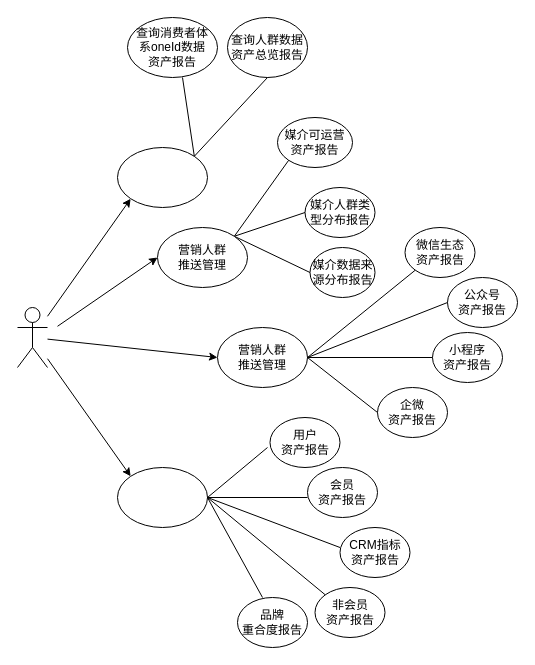
Some shapes in this 535 by 665 pixel diagram are drawn without their labels. The shapes that lost their labels are listed below. From the top down, each one's box as (x1, y1, x2, y2) in pixels, then its label:
(116, 146, 208, 208): 数据资产 总览看板
(16, 306, 48, 368): 用户
(116, 466, 208, 528): 用户资产看板
